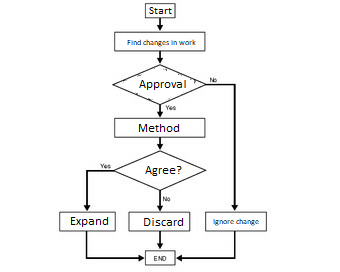arrow: (204, 82, 238, 212), (84, 229, 146, 262), (83, 168, 113, 211), (155, 188, 164, 211), (155, 230, 164, 250), (155, 16, 165, 31), (155, 103, 165, 117), (156, 136, 164, 151), (156, 50, 163, 66)
decision: (112, 63, 207, 105), (113, 150, 207, 190)
process: (112, 29, 207, 53), (112, 116, 207, 140), (203, 209, 269, 234), (126, 209, 191, 233), (57, 209, 117, 233), (142, 248, 177, 267), (143, 1, 177, 20)
text: (125, 37, 197, 47), (137, 78, 188, 91), (136, 122, 181, 134), (69, 214, 110, 227), (144, 164, 182, 177), (211, 217, 260, 227), (142, 216, 185, 227), (148, 4, 173, 16), (151, 253, 169, 262), (98, 162, 112, 170), (159, 194, 171, 203), (164, 103, 176, 111), (207, 75, 218, 83)
